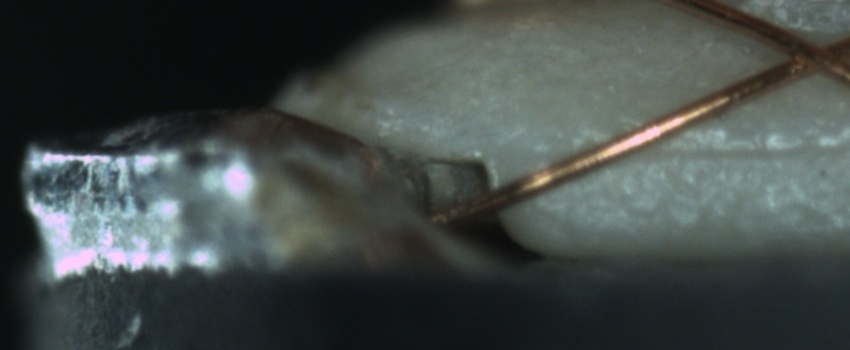CL: (765, 24, 845, 87)
DL: (567, 118, 848, 183)
